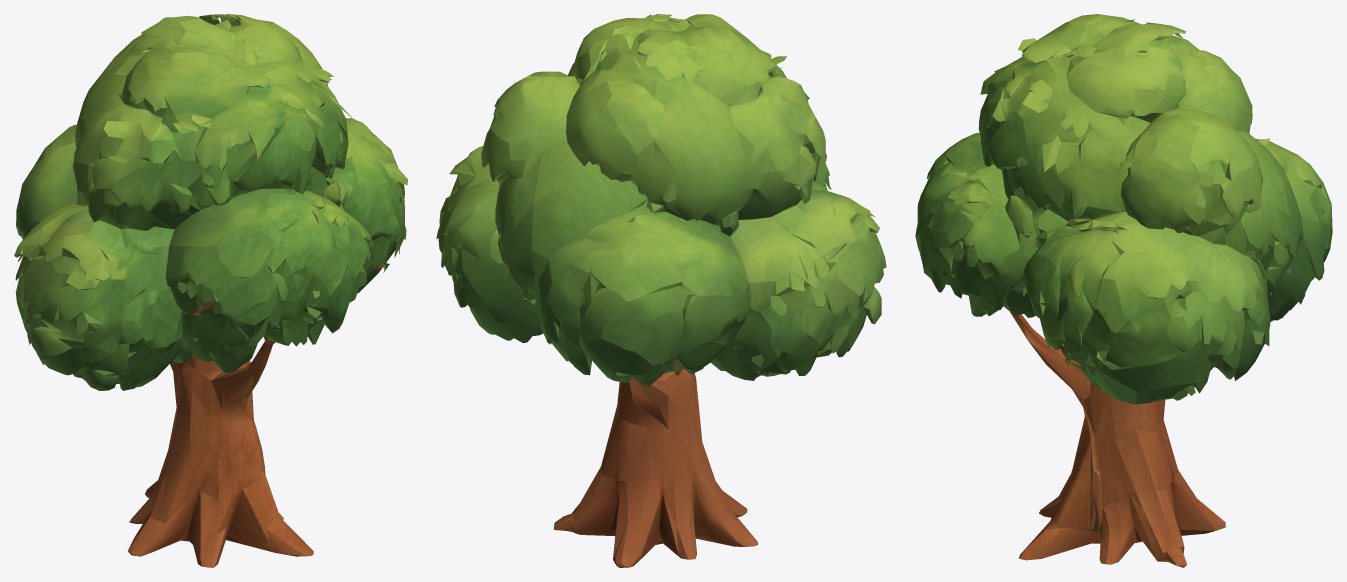
The model's file is sunlit-canopy.glb.
3 views of the same model, side by side, from view 1: azimuth 30°, elevation 25°; view 2: azimuth 150°, elevation 25°; view 3: azimuth 270°, elevation 25° (orthographic).
Visible parts, largest first — view 1: output_unwrapped; view 2: output_unwrapped; view 3: output_unwrapped.
Part boxes in pixels (x1,y1,x2,y2): output_unwrapped: [14, 14, 407, 567]; output_unwrapped: [436, 14, 886, 567]; output_unwrapped: [915, 14, 1332, 567].
Size of the model in its own units: 1.55 by 1.9 by 1.43.
1 material, 1 textured.
